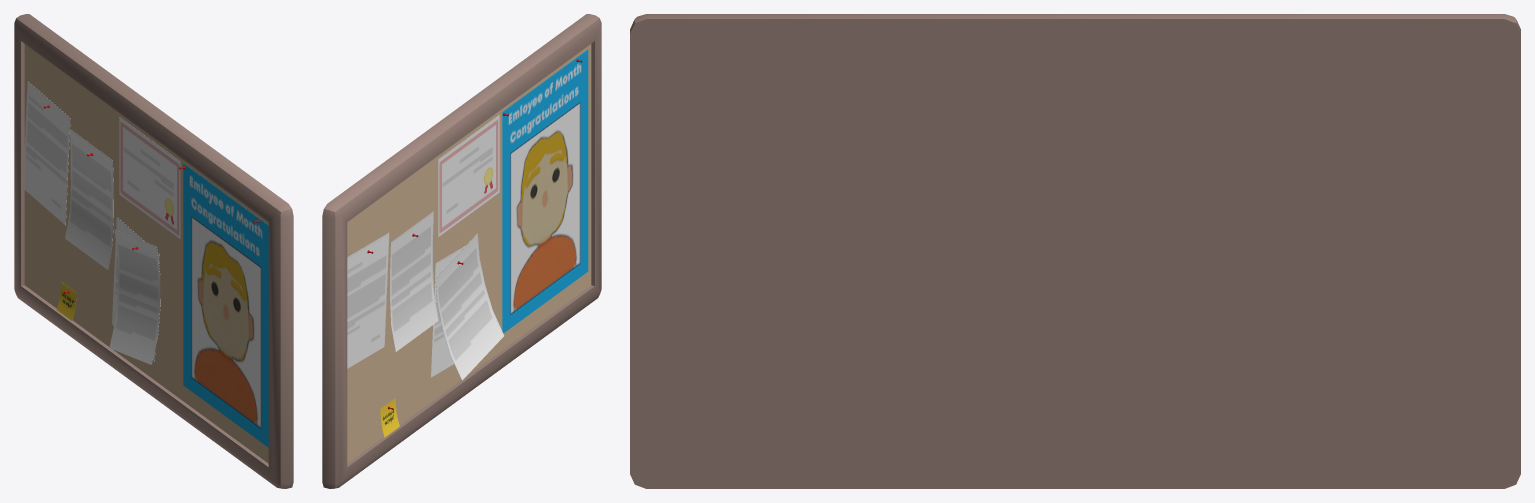
The model's file is Board02.fbx.
The picture shows the model from 3 angles, left to right: view 1: azimuth 30°, elevation 25°; view 2: azimuth 150°, elevation 25°; view 3: azimuth 270°, elevation 25°; orthographic projection. The views are drawn at different scales.
Visible parts, largest first — view 1: Board02; view 2: Board02; view 3: Board02.
Part boxes in pixels (x1,y1,x2,y2): Board02: [14, 14, 293, 488]; Board02: [322, 14, 601, 488]; Board02: [630, 14, 1520, 488].
Size of the model in its own units: 0.078 by 1.32 by 0.766.
